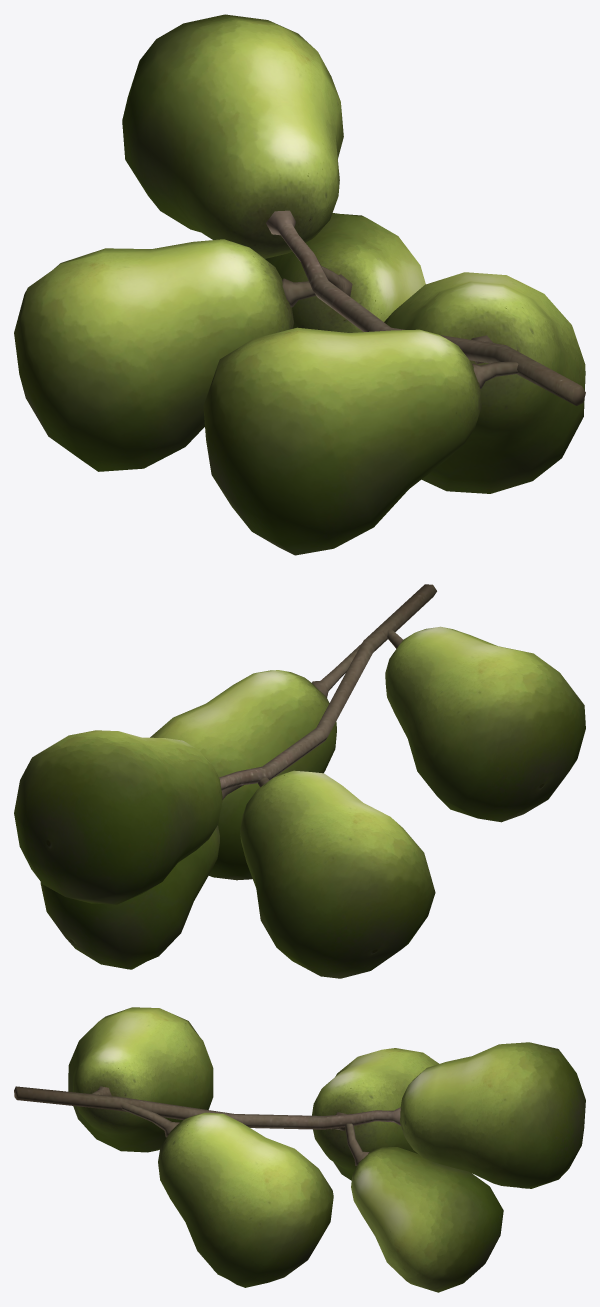
The model's file is Gmelina Fruit.fbx.
The picture shows the model from 3 angles, top to bottom: view 1: azimuth 30°, elevation 25°; view 2: azimuth 150°, elevation 25°; view 3: azimuth 270°, elevation 25°; orthographic projection. The views are drawn at different scales.
Visible parts, largest first — view 1: Fruit_LOD0; view 2: Fruit_LOD0; view 3: Fruit_LOD0.
Boxes of the visible parts, x1,y1,x2,y2 form: Fruit_LOD0: (14,14,585,555); Fruit_LOD0: (14,584,585,978); Fruit_LOD0: (14,1007,585,1292).
Size of what is drawn, in the model's own units: 16.9 by 12.32 by 28.39.
1 material, 1 textured.
